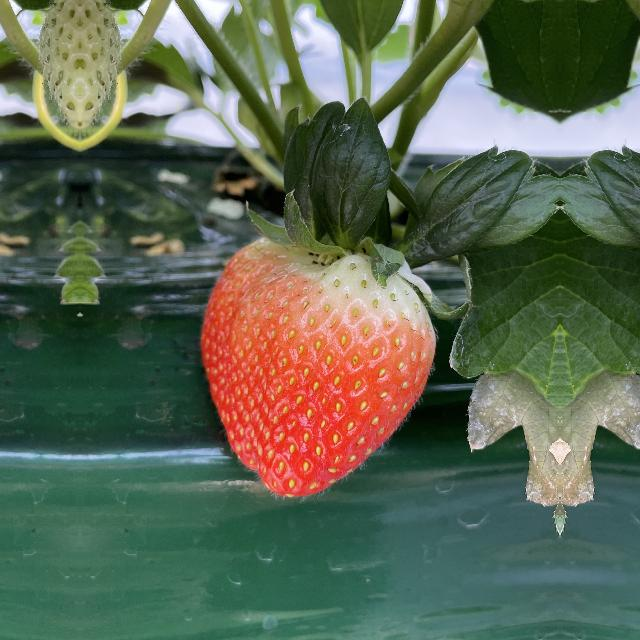Health_100: (195, 220, 449, 498)
